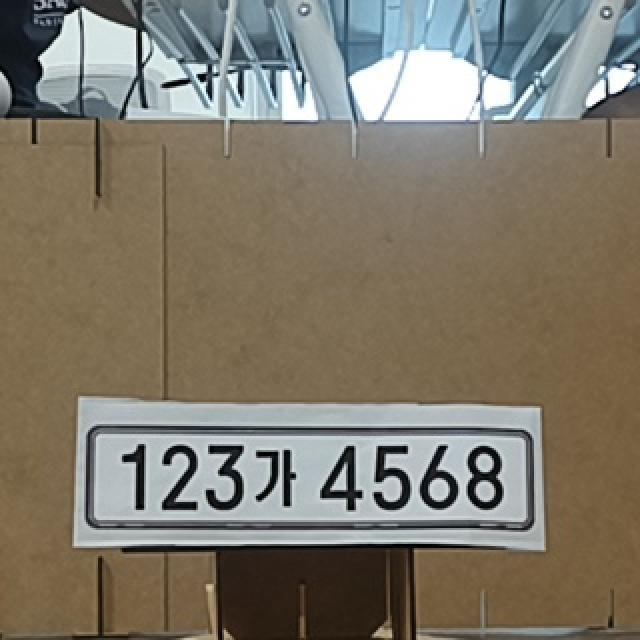normal: (86, 425, 530, 531)
